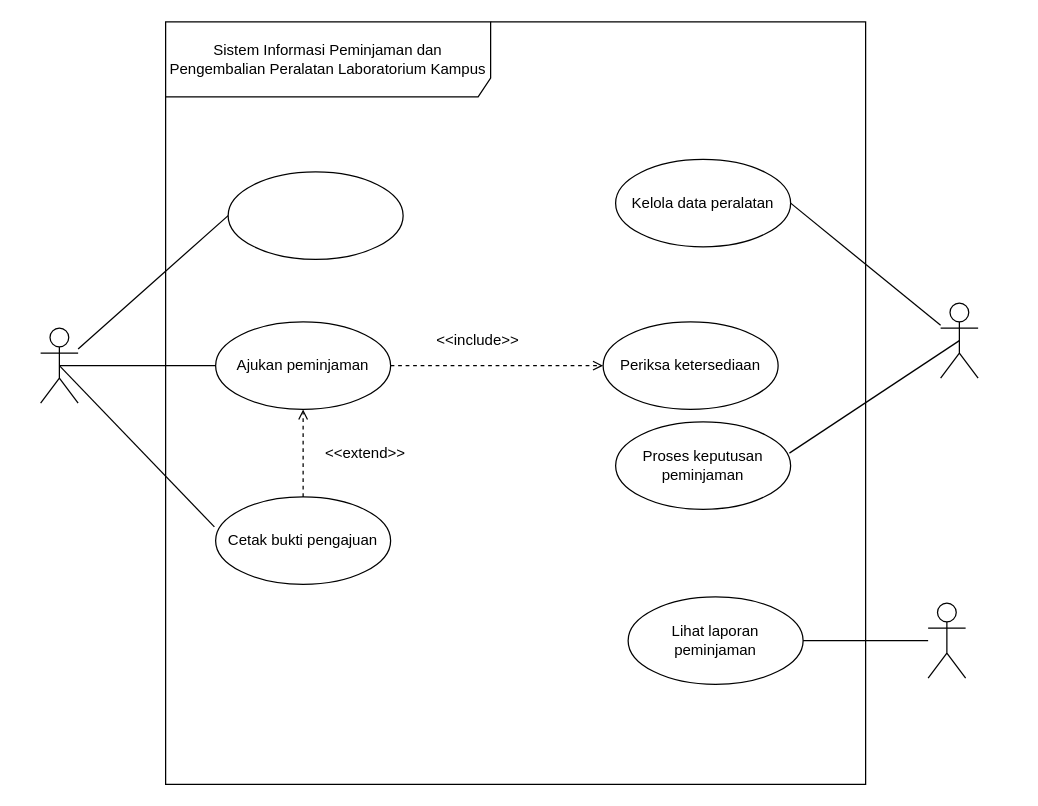
Image size: 1038x806. Some labels were removed from this diagram. Here are the shapes that lost their labels. From the top down, the centre of each, then its label:
At point (315, 215): "Melihat ketersediaan peralatan".
At point (958, 340): "Petugas Laboran".
At point (58, 365): "Mahasiswa".
At point (946, 640): "Kepala Laboran".
